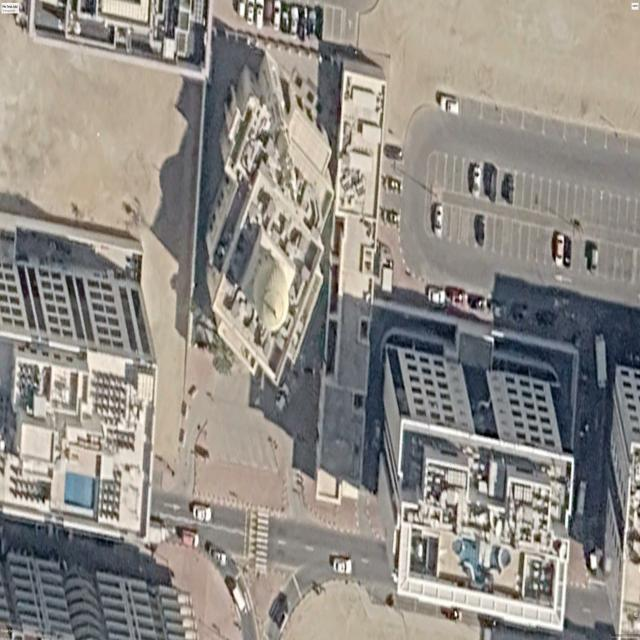Home: (206, 54, 334, 384)
